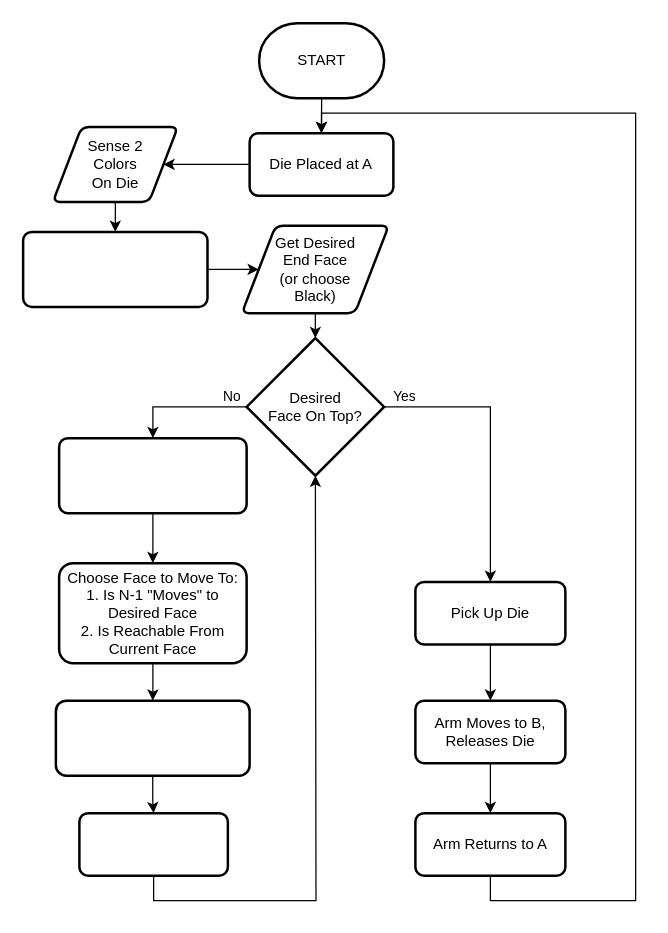
This 668x933 diagram has some shape labels left out. The shapes that lost their labels are listed below. From the top down, each one's centre as x and y in pixels, then its label:
point 114,269: Orient Code's Die Model to Match Reality
point 152,475: Get # of "Moves" From Current Top Face to Desired Face (N)
point 152,737: Calculate How To Reach This Face (Axis, Spin)
point 153,843: Arm Turns Die to New Face
